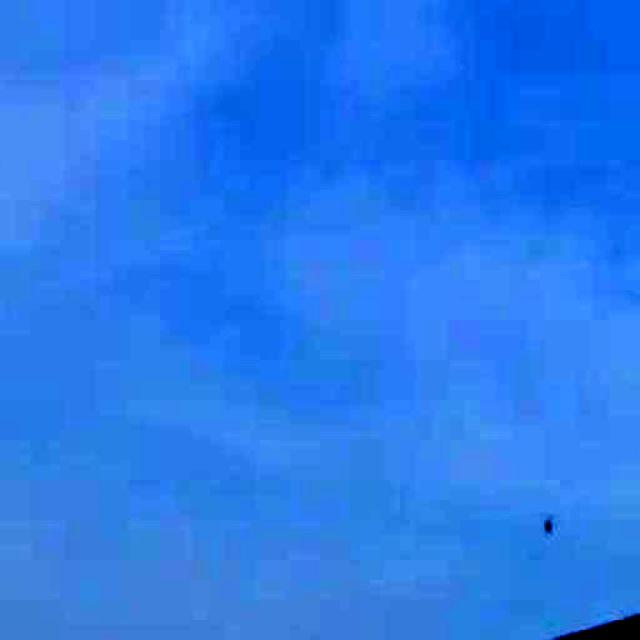drone: (529, 495, 568, 548)
